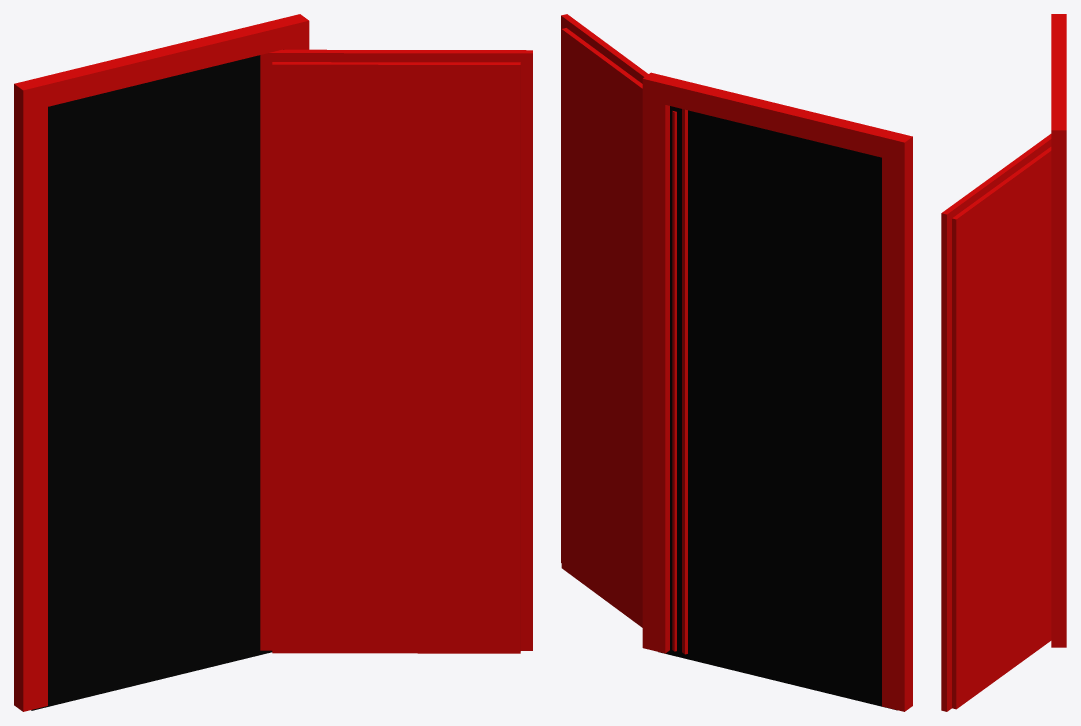
File: door.fbx
The picture shows the model from 3 angles, left to right: view 1: azimuth 30°, elevation 25°; view 2: azimuth 150°, elevation 25°; view 3: azimuth 270°, elevation 25°; orthographic projection. The views are drawn at different scales.
Parts seen in each view (by area): view 1: Plane.003; view 2: Plane.003; view 3: Plane.003.
Boxes of the visible parts, x1,y1,x2,y2 form: Plane.003: (14, 14, 532, 711); Plane.003: (561, 14, 912, 711); Plane.003: (941, 14, 1066, 711).
Size of the model in its own units: 445 by 596 by 130.
